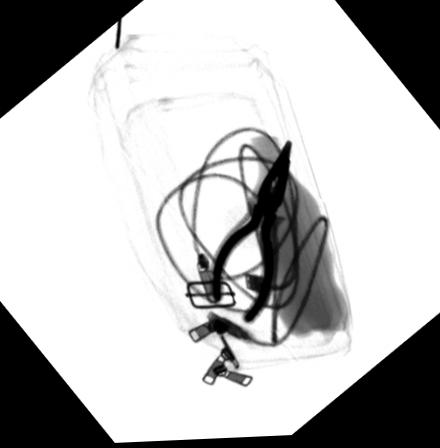Pliers: (209, 139, 293, 326)
